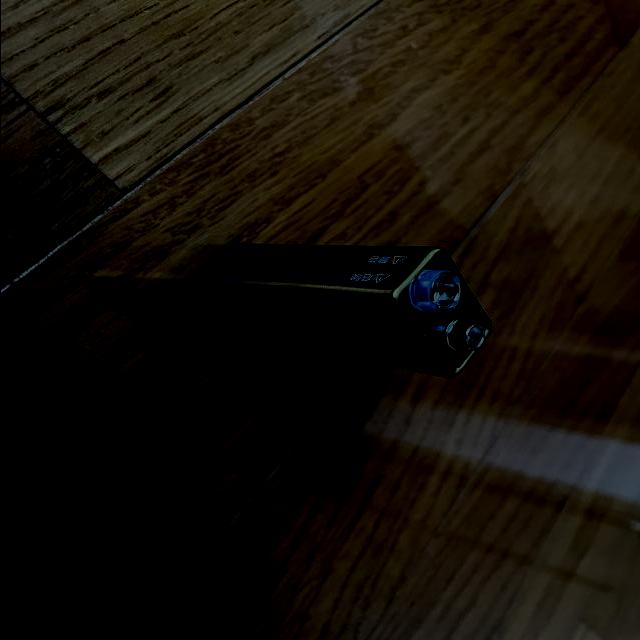9V: (196, 242, 493, 379)
